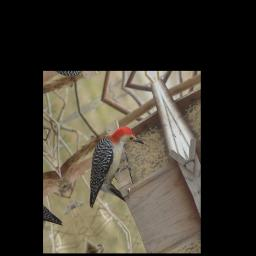Woodpecker: (70, 116, 159, 214)
